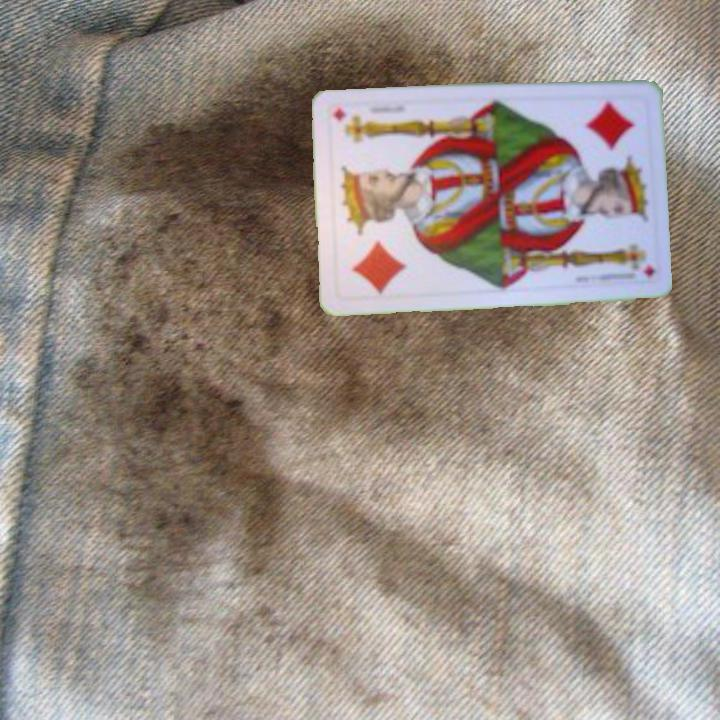d_k.png: (561, 91, 651, 195), (330, 196, 420, 300)
